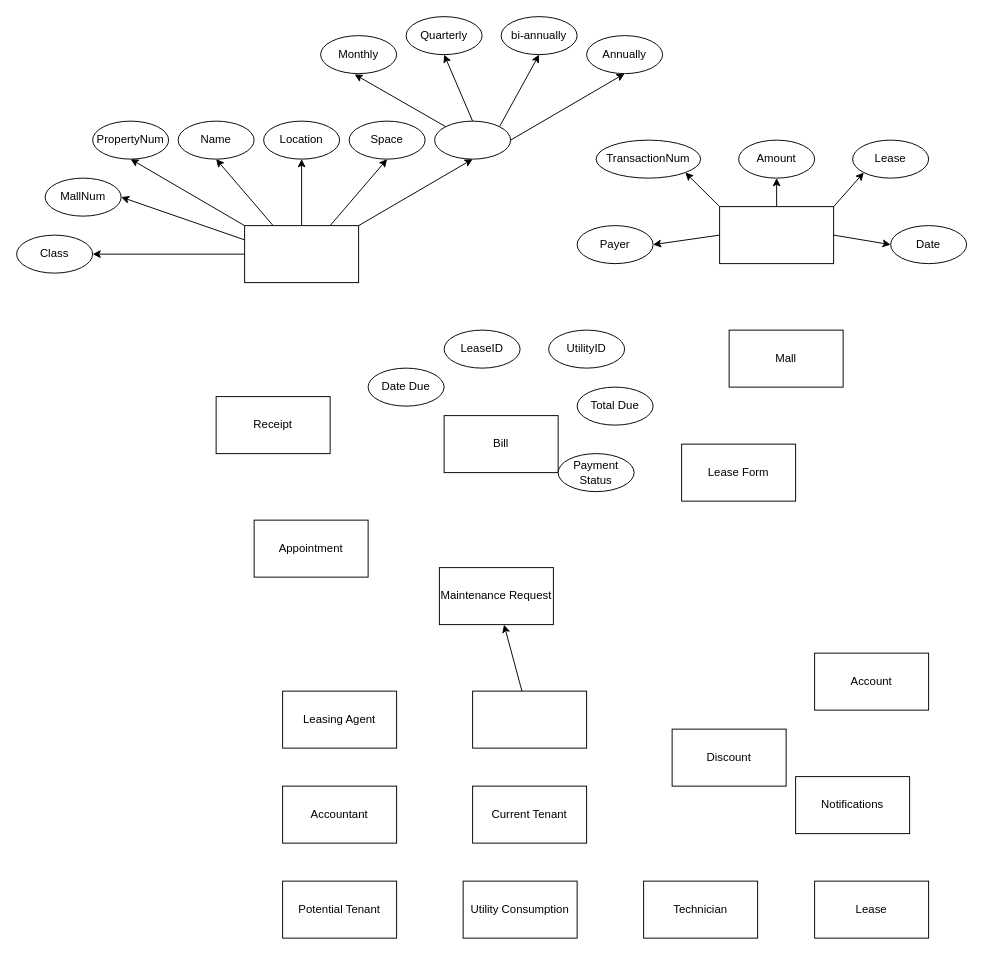
This 983x955 diagram has some shape labels left out. The shapes that lost their labels are listed below. From the top down, each one's centre as x and y in pixels, then its label:
the point at 472,139: RentalRate
the point at 301,254: Property
the point at 776,235: Transaction
the point at 529,719: IT Officer
